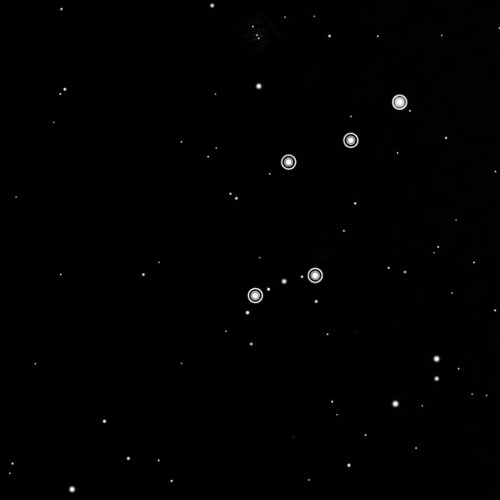lyra: (244, 90, 409, 310)
